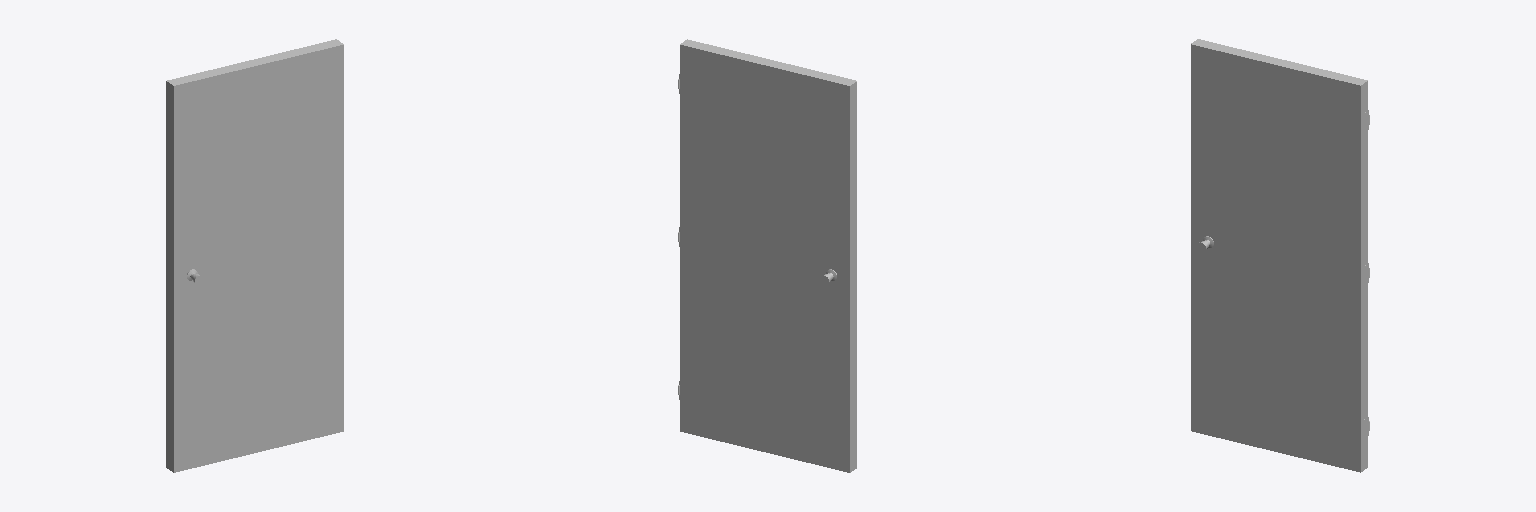
The model's file is sgc_door_single.obj.
3 renders of one model, left to right at view 1: azimuth 30°, elevation 25°; view 2: azimuth 150°, elevation 25°; view 3: azimuth 330°, elevation 25°, orthographic.
Parts seen in each view (by area): view 1: Door_Export; view 2: Door_Export; view 3: Door_Export.
Boxes of the visible parts, <box> form: Door_Export: <box>166,39,343,472</box>; Door_Export: <box>678,39,856,472</box>; Door_Export: <box>1191,39,1369,472</box>.
Size of the model in its own units: 14.31 by 30.82 by 3.2.